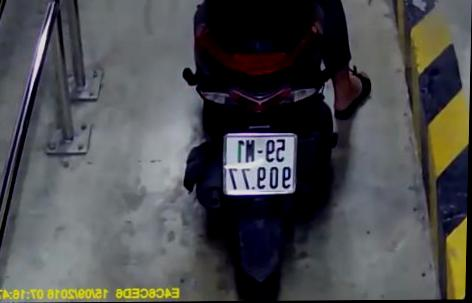License_Plate: (213, 128, 305, 200)
